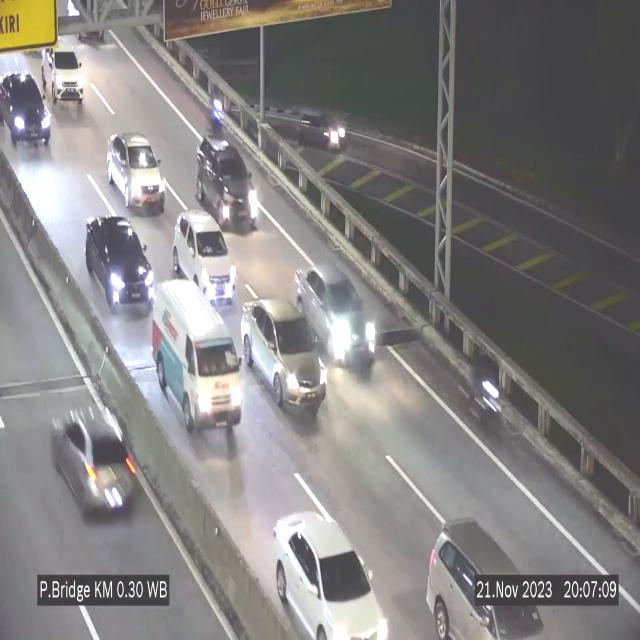Car: (152, 280, 242, 456), (274, 514, 388, 640), (241, 299, 325, 411), (298, 262, 376, 369), (193, 132, 263, 241), (86, 215, 156, 318), (173, 212, 235, 306), (2, 67, 54, 158), (107, 134, 165, 212), (46, 38, 85, 108)
Motorcycle: (459, 336, 502, 438), (208, 80, 226, 141)
